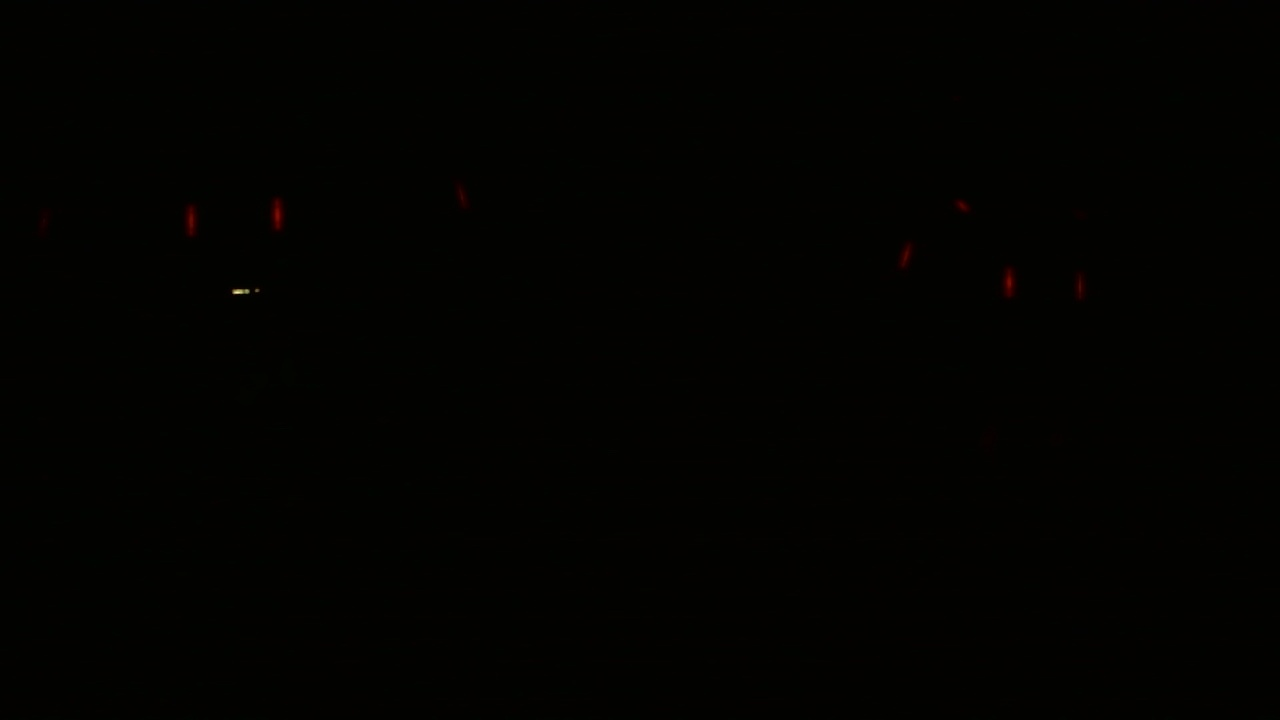pair1: (181, 196, 290, 236), (1000, 267, 1085, 302)
